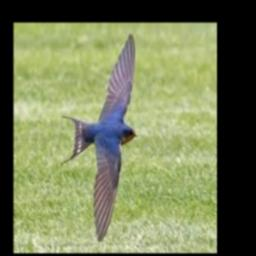Swallow: (61, 33, 138, 242)
